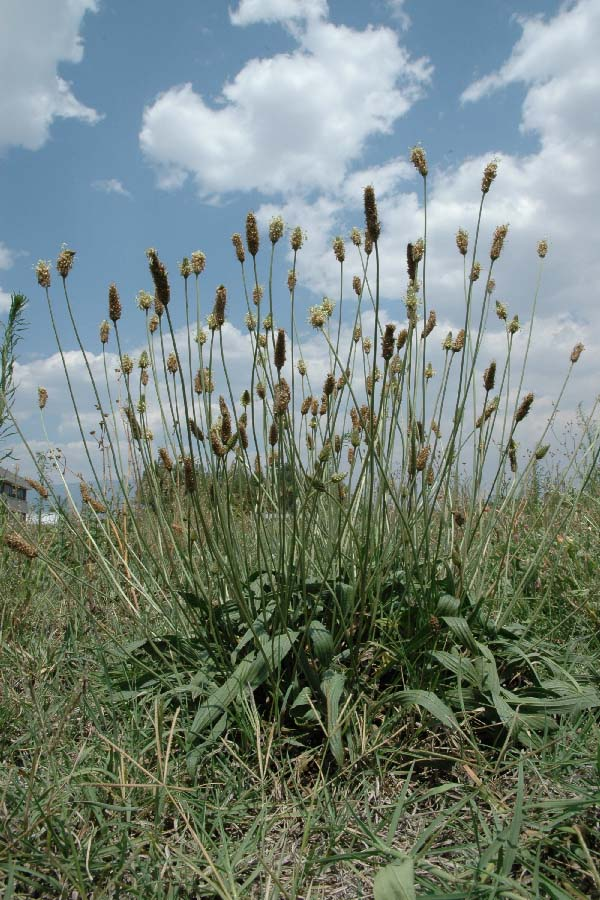buckhorn plantain: (26, 139, 572, 741)
